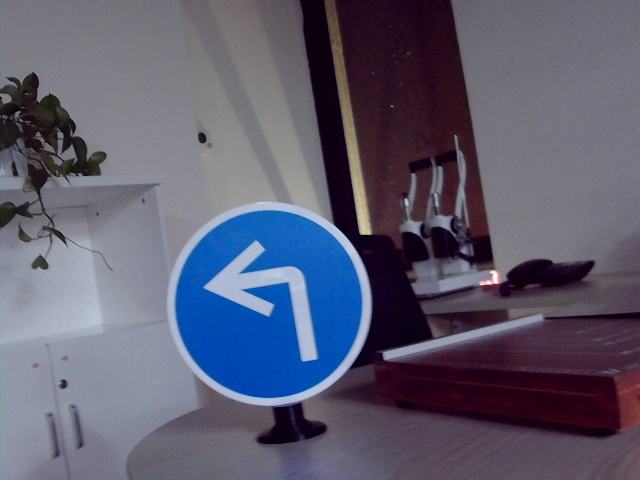turn_left: (203, 238, 333, 365)
